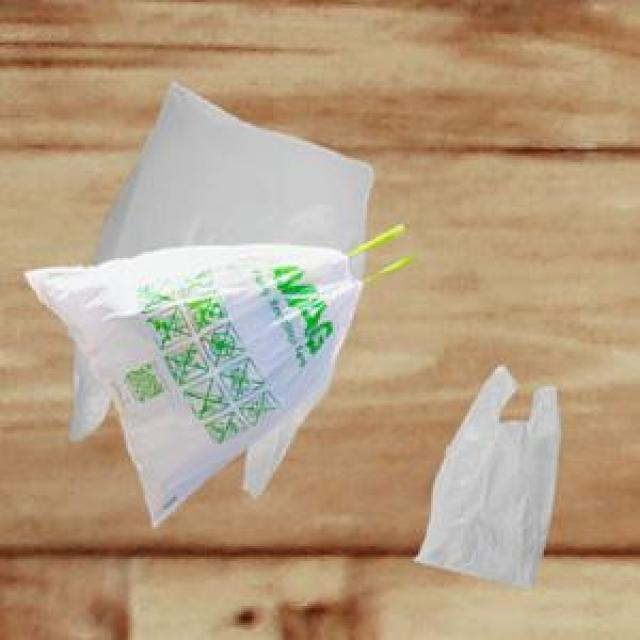waste: (28, 82, 401, 524), (416, 366, 558, 586)
